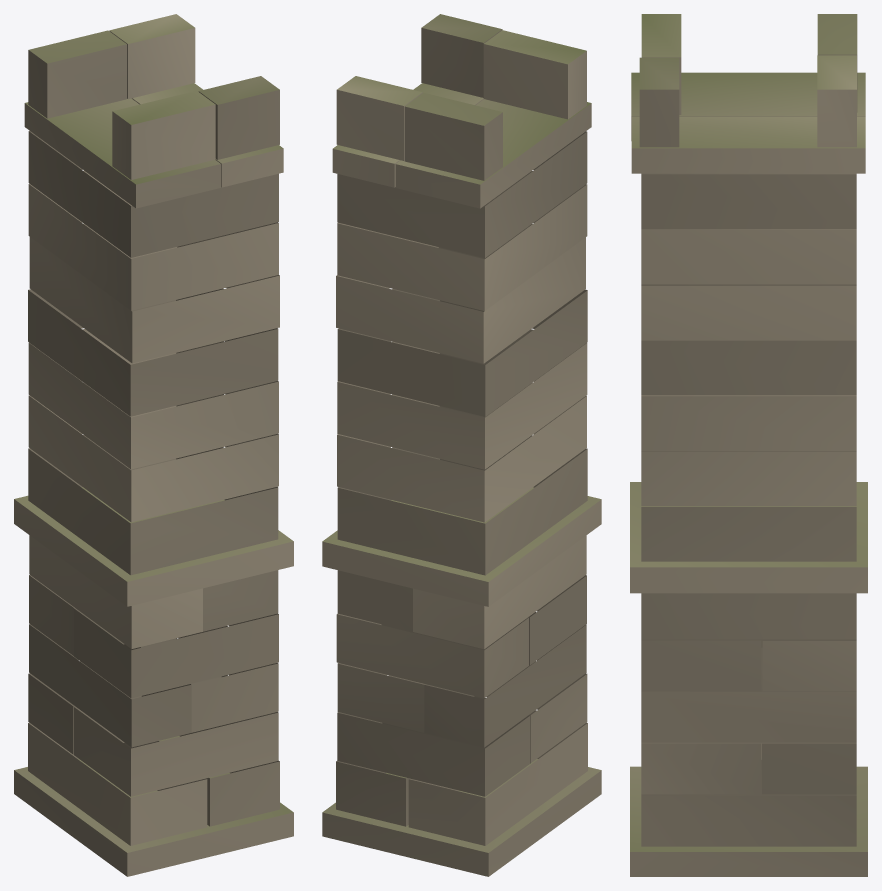
Rendered from viaduct_top_pier_mid.glb.
The picture shows the model from 3 angles, left to right: view 1: azimuth 30°, elevation 25°; view 2: azimuth 150°, elevation 25°; view 3: azimuth 270°, elevation 25°; orthographic projection. The views are drawn at different scales.
Parts seen in each view (by area): view 1: viaduct_top_pier_mid; view 2: viaduct_top_pier_mid; view 3: viaduct_top_pier_mid.
Boxes of the visible parts, x1,y1,x2,y2 form: viaduct_top_pier_mid: (14,14,293,876); viaduct_top_pier_mid: (322,14,601,876); viaduct_top_pier_mid: (630,14,867,876).
Bounding box in the file's own units: 5.6 × 23.97 × 6.6.
